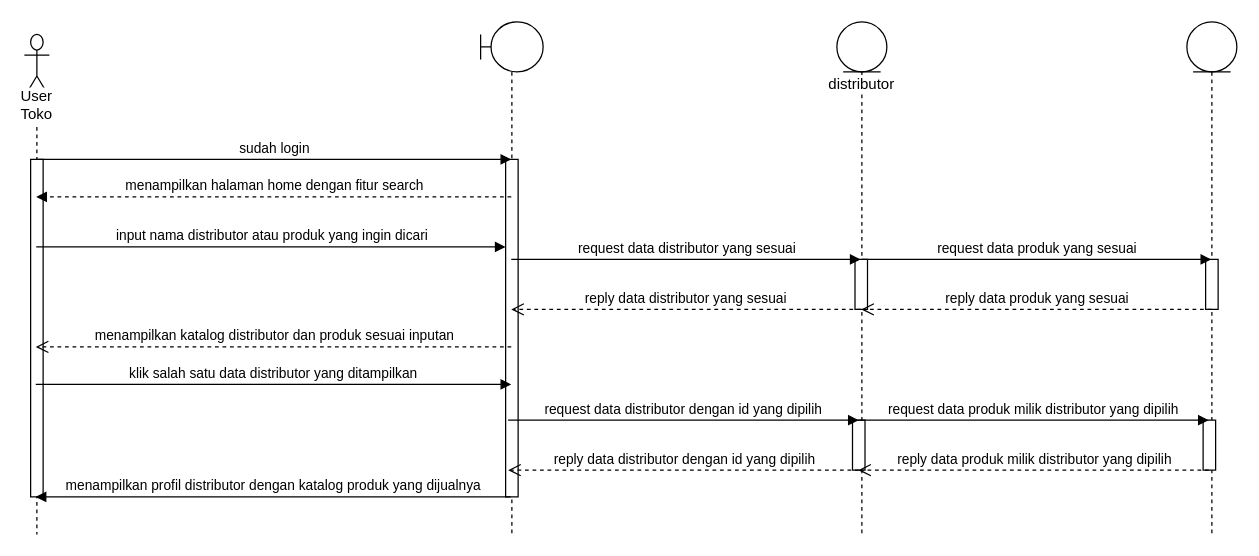
This 1259x556 diagram has some shape labels left out. Here are the shapes that lost their labels. From the top down, the box of each, then its label:
(479, 21, 543, 534): interface
(1186, 21, 1237, 534): produk
